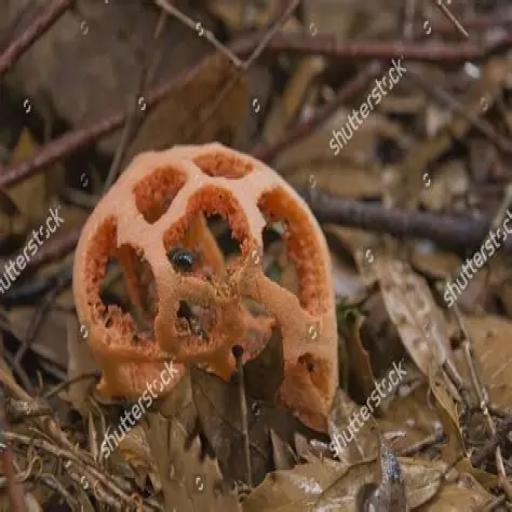mushroom: (79, 149, 344, 406)
